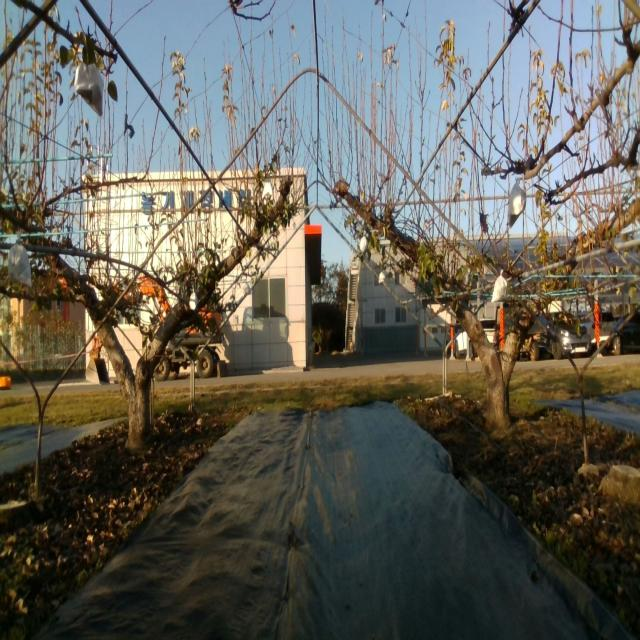pearbags: (76, 60, 105, 116), (6, 230, 30, 285), (508, 179, 527, 229), (491, 268, 506, 303), (262, 178, 274, 199)
